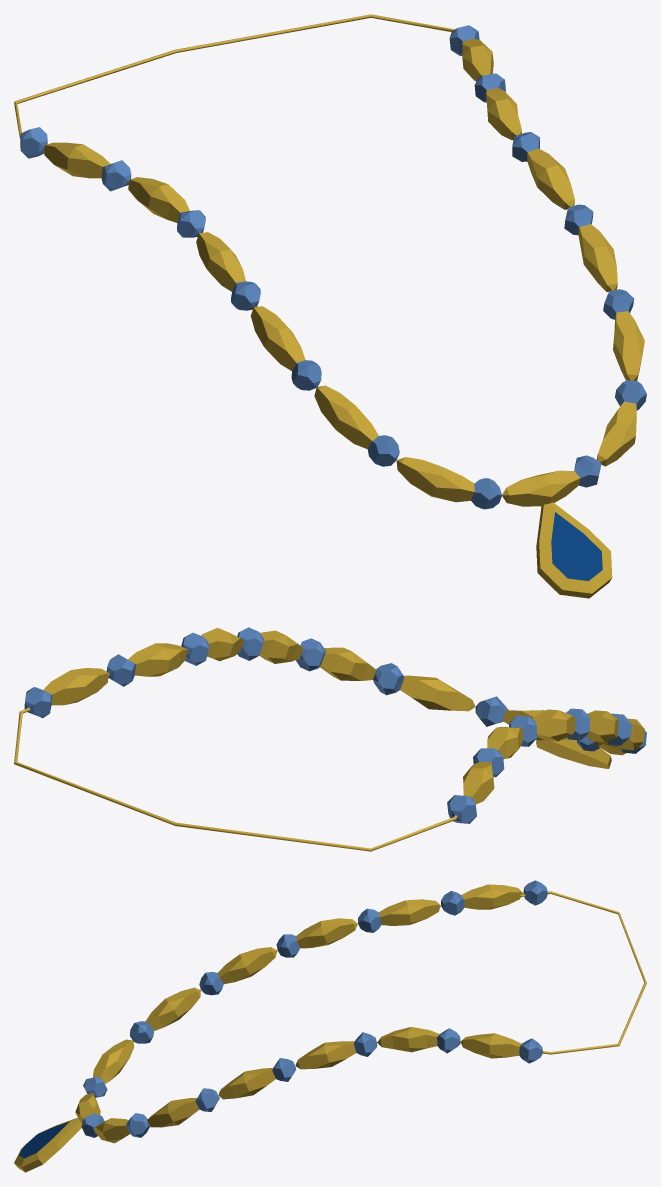
File: collectable_necklace.fbx
The picture shows the model from 3 angles, top to bottom: view 1: azimuth 30°, elevation 25°; view 2: azimuth 150°, elevation 25°; view 3: azimuth 270°, elevation 25°; orthographic projection. The views are drawn at different scales.
Visible parts, largest first — view 1: quest_necklace; view 2: quest_necklace; view 3: quest_necklace.
Boxes of the visible parts, box(x1,y1,x2,y2) form: quest_necklace: box(14, 14, 646, 598); quest_necklace: box(14, 627, 646, 851); quest_necklace: box(14, 880, 646, 1172).
Bounding box in the file's own units: 0.3427 × 0.1976 × 0.5448.
